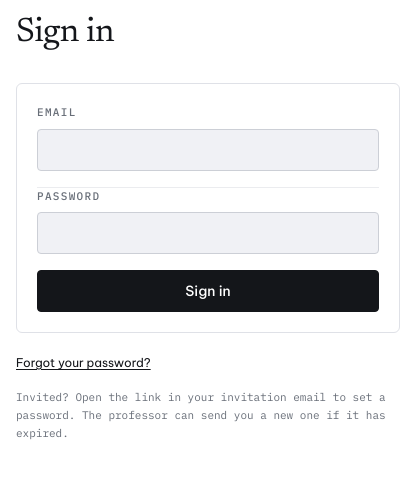
Test: the login page can ask for a recovery link
Click the button "Forgot your password?": {"x": 83, "y": 363} [16,355,151,371]
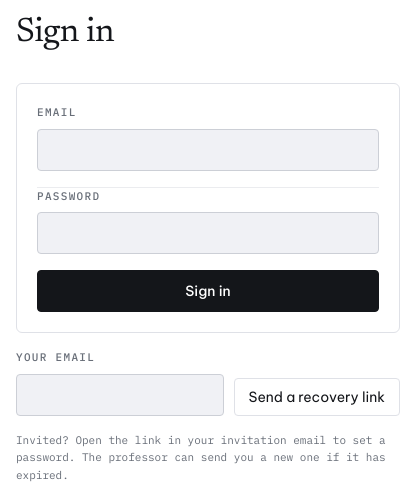
In the field labelled "Your email": {"x": 120, "y": 394} [16,374,224,416], type "an@example.edu"
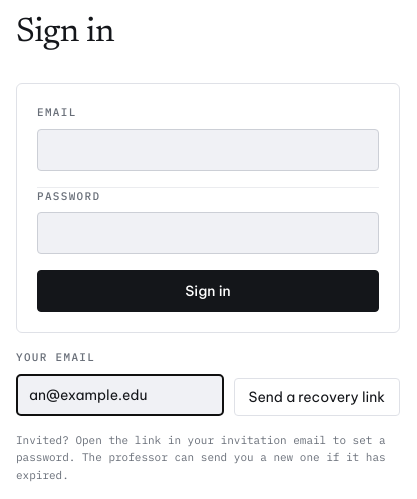
Click the button "Send a recovery link": {"x": 317, "y": 396} [234,378,400,416]
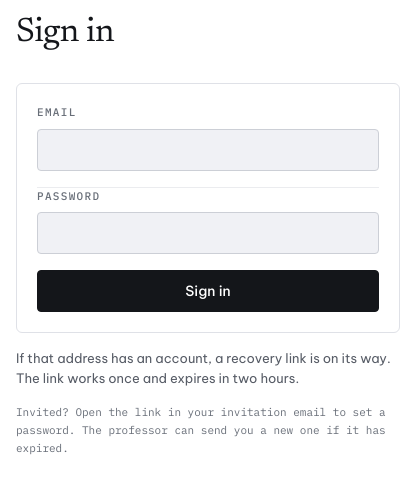
Expected: the message shows "If that address has an account", [16,350,391,386]
